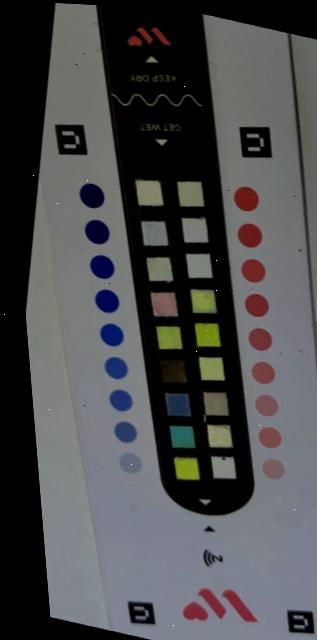black_strip: (93, 5, 261, 518)
circle: (244, 325, 275, 353), (91, 287, 121, 315), (257, 456, 288, 483), (253, 423, 284, 450), (251, 391, 282, 418), (247, 360, 278, 387), (237, 257, 268, 284), (230, 185, 261, 212), (114, 449, 145, 476), (109, 419, 140, 446), (104, 387, 135, 414), (95, 321, 126, 348), (75, 182, 106, 209), (241, 292, 271, 319), (234, 221, 264, 248), (100, 354, 130, 381), (86, 253, 116, 280), (81, 218, 111, 245)
markers: (72, 176, 169, 209), (106, 384, 193, 418), (102, 351, 189, 385), (177, 215, 265, 248), (110, 416, 198, 449), (97, 319, 185, 352), (92, 286, 180, 319), (81, 214, 169, 247), (195, 352, 282, 385), (190, 319, 277, 352), (187, 284, 274, 317), (183, 250, 270, 283), (174, 178, 261, 211), (115, 448, 202, 481), (87, 250, 174, 283), (206, 454, 292, 480), (200, 423, 286, 449), (195, 391, 281, 417)
square: (136, 217, 172, 248), (141, 254, 177, 285), (146, 287, 182, 318), (150, 321, 186, 352), (159, 388, 195, 419), (169, 453, 205, 484), (172, 178, 208, 209), (176, 214, 212, 245), (180, 250, 216, 281), (185, 285, 221, 316), (190, 319, 226, 350), (202, 420, 238, 451), (206, 453, 242, 484), (165, 421, 200, 452), (194, 353, 229, 384), (155, 355, 191, 385), (199, 388, 235, 418), (131, 178, 166, 208)
triangle: (170, 517, 280, 631)
